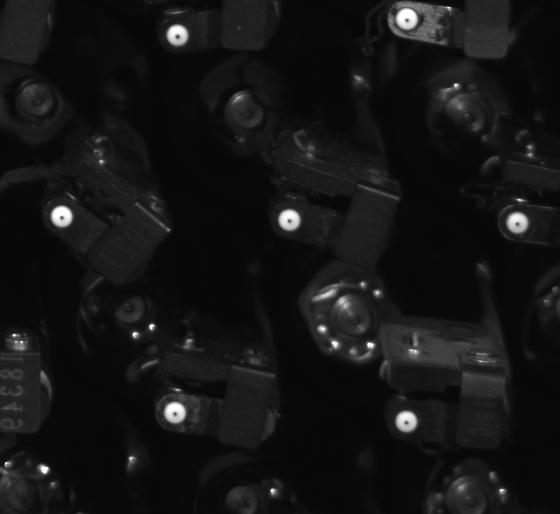fiber: (272, 202, 306, 233), (502, 207, 534, 238), (162, 22, 194, 52), (391, 6, 423, 35), (390, 408, 421, 437), (161, 397, 189, 427), (48, 201, 75, 231)
